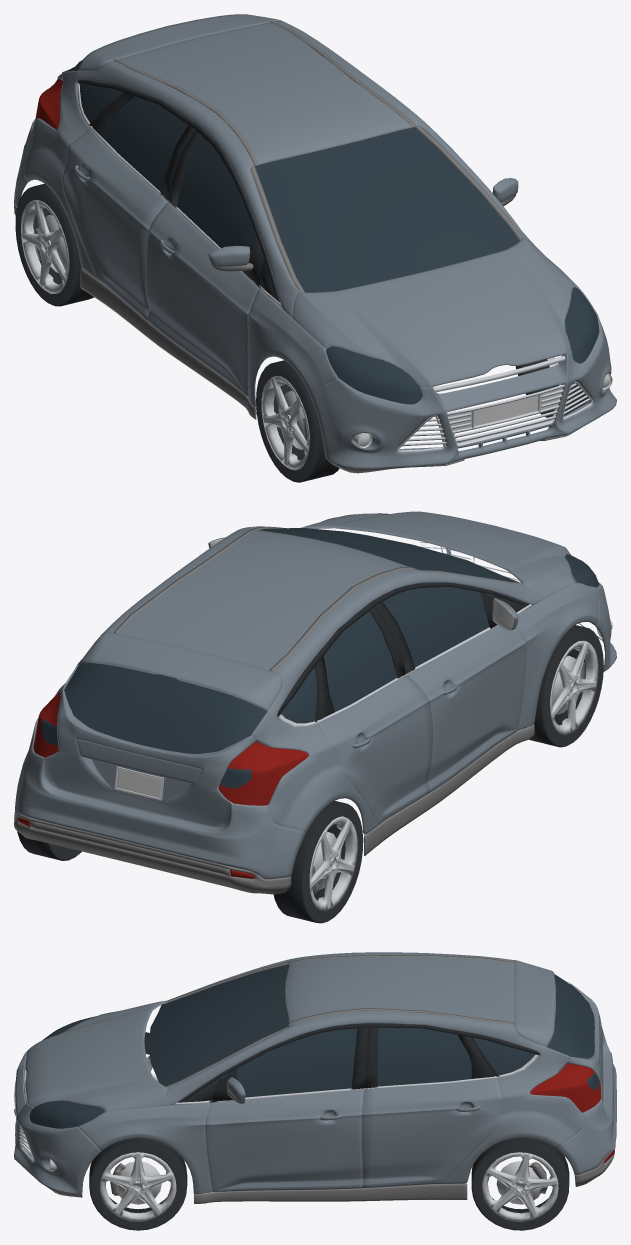
The model's file is city.glb.
The picture shows the model from 3 angles, top to bottom: view 1: azimuth 30°, elevation 25°; view 2: azimuth 150°, elevation 25°; view 3: azimuth 270°, elevation 25°; orthographic projection. The views are drawn at different scales.
Visible parts, largest first — view 1: paint-carPaint-body, glass-glass-body, trim-gray_darkMatte-body, rubber-black_glossy-body, alloy-chrome_dark-body, rubber-black_rubber-(False, False), rubber-black_rubber-(False, True), alloy-chrome_matte-(False, True), alloy-chrome_matte-(False, False), alloy-chrome_matte-body, trim-white-body, taillamp-glass_red-body; view 2: paint-carPaint-body, glass-glass-body, trim-gray_darkMatte-body, rubber-black_glossy-body, taillamp-glass_red-body, rubber-black_rubber-(False, True), rubber-black_rubber-(False, False), alloy-chrome_matte-(False, False), alloy-chrome_matte-(False, True), trim-white-body, alloy-chrome_matte-body, rubber-black_rubber-(True, True); view 3: paint-carPaint-body, glass-glass-body, trim-gray_darkMatte-body, rubber-black_glossy-body, rubber-black_rubber-(True, True), rubber-black_rubber-(True, False), alloy-chrome_matte-(True, False), alloy-chrome_matte-(True, True), taillamp-glass_red-body, alloy-chrome_matte-body.
Part boxes in pixels (left/top/right/bottom): paint-carPaint-body: left=15, top=14, right=616, bottom=468; glass-glass-body: left=43, top=60, right=599, bottom=404; trim-gray_darkMatte-body: left=14, top=21, right=578, bottom=473; rubber-black_glossy-body: left=77, top=79, right=280, bottom=302; alloy-chrome_dark-body: left=398, top=381, right=592, bottom=451; rubber-black_rubber-(False, False): left=256, top=360, right=339, bottom=482; rubber-black_rubber-(False, True): left=15, top=183, right=93, bottom=306; alloy-chrome_matte-(False, True): left=21, top=200, right=69, bottom=293; alloy-chrome_matte-(False, False): left=261, top=376, right=309, bottom=470; alloy-chrome_matte-body: left=76, top=83, right=565, bottom=392; trim-white-body: left=474, top=395, right=538, bottom=426; taillamp-glass_red-body: left=35, top=78, right=62, bottom=129; paint-carPaint-body: left=15, top=511, right=616, bottom=879; glass-glass-body: left=40, top=513, right=599, bottom=788; trim-gray_darkMatte-body: left=14, top=527, right=604, bottom=894; rubber-black_glossy-body: left=277, top=583, right=529, bottom=722; taillamp-glass_red-body: left=18, top=692, right=308, bottom=878; rubber-black_rubber-(False, True): left=273, top=801, right=363, bottom=923; rubber-black_rubber-(False, False): left=518, top=625, right=603, bottom=747; alloy-chrome_matte-(False, False): left=550, top=640, right=598, bottom=734; alloy-chrome_matte-(False, True): left=309, top=816, right=357, bottom=910; trim-white-body: left=116, top=768, right=162, bottom=798; alloy-chrome_matte-body: left=278, top=604, right=533, bottom=727; rubber-black_rubber-(True, True): left=17, top=831, right=81, bottom=860; paint-carPaint-body: left=14, top=952, right=616, bottom=1194; glass-glass-body: left=29, top=964, right=599, bottom=1128; trim-gray_darkMatte-body: left=14, top=955, right=615, bottom=1203; rubber-black_glossy-body: left=178, top=1023, right=539, bottom=1102; rubber-black_rubber-(True, True): left=471, top=1138, right=569, bottom=1230; rubber-black_rubber-(True, False): left=89, top=1138, right=187, bottom=1230; alloy-chrome_matte-(True, False): left=100, top=1152, right=176, bottom=1221; alloy-chrome_matte-(True, True): left=482, top=1152, right=558, bottom=1221; taillamp-glass_red-body: left=530, top=1063, right=614, bottom=1162; alloy-chrome_matte-body: left=22, top=1054, right=539, bottom=1105.
Bounding box in the file's own units: 2.04 × 1.55 × 4.36.
